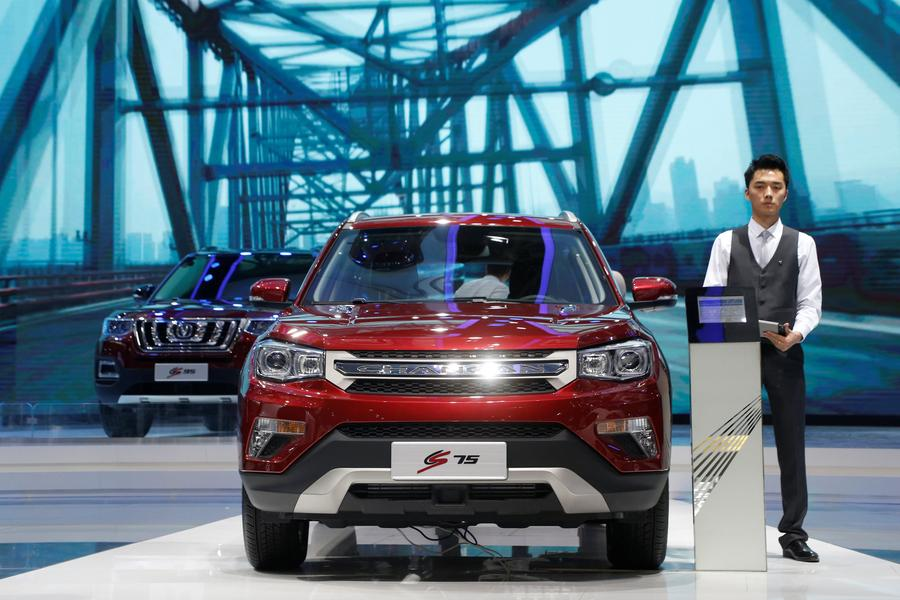car: (235, 210, 675, 573), (93, 247, 321, 438)
